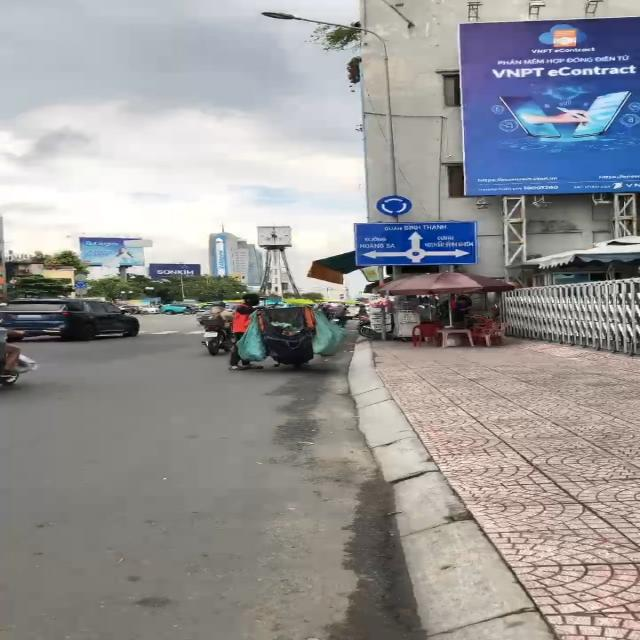Bien bao noi giao nhau chay theo vong xuyen: (374, 194, 414, 217)
